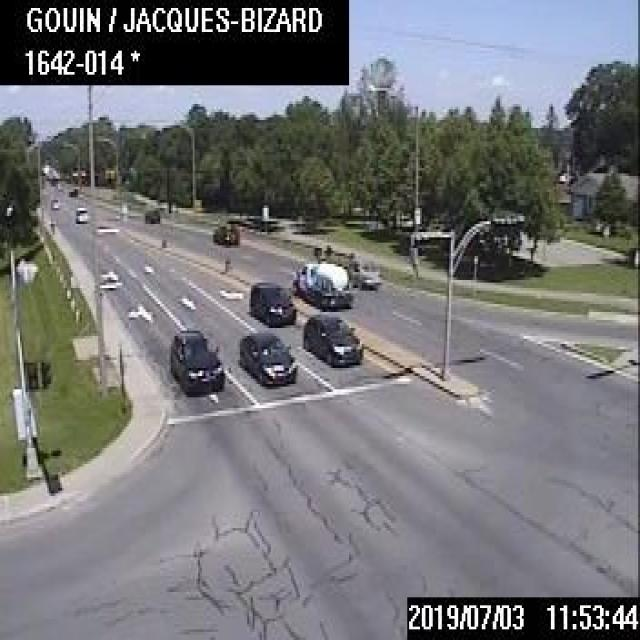vehicle: (168, 328, 223, 393), (290, 259, 356, 308), (238, 330, 296, 384), (302, 312, 362, 364), (248, 280, 295, 325), (356, 261, 382, 286), (211, 222, 237, 245), (73, 206, 87, 220), (144, 208, 158, 222), (67, 185, 77, 195), (49, 197, 58, 208)
